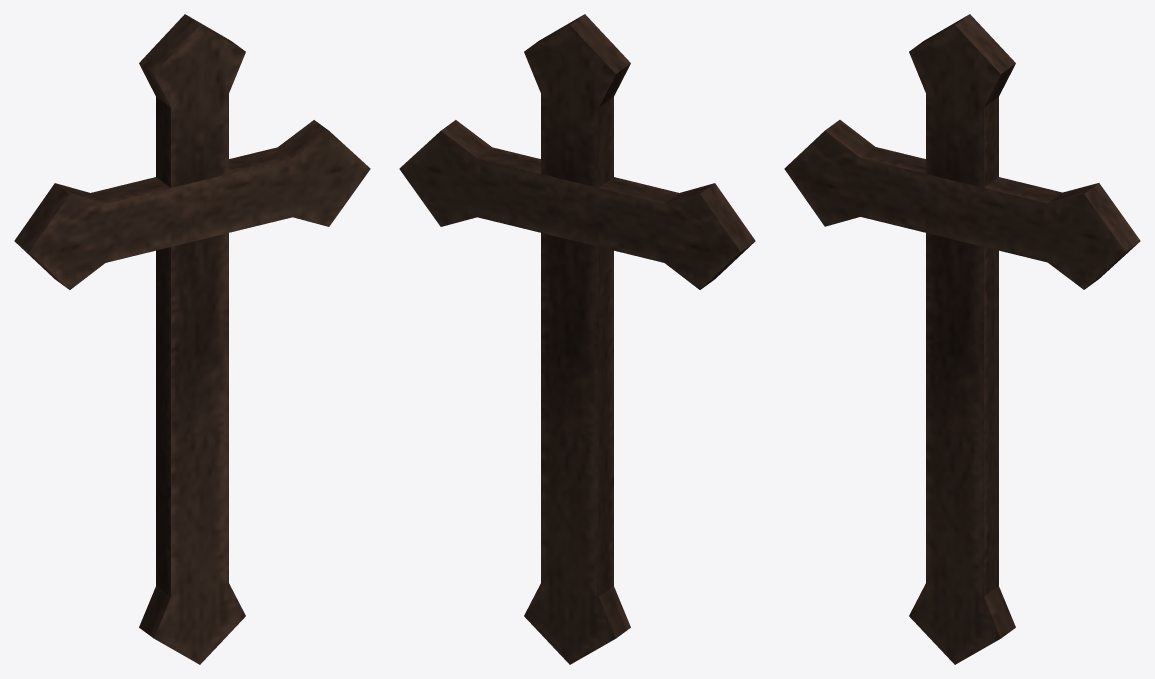
The model's file is Cross.Fancy.fbx.
The picture shows the model from 3 angles, left to right: view 1: azimuth 30°, elevation 25°; view 2: azimuth 150°, elevation 25°; view 3: azimuth 330°, elevation 25°; orthographic projection.
Visible parts, largest first — view 1: Cross.Fancy; view 2: Cross.Fancy; view 3: Cross.Fancy.
Part boxes in pixels (x1=…): Cross.Fancy: x1=14, y1=14, x2=370, y2=664; Cross.Fancy: x1=399, y1=14, x2=755, y2=664; Cross.Fancy: x1=784, y1=14, x2=1140, y2=664.
Bounding box in the file's own units: 28.48 × 51.01 × 2.18.
